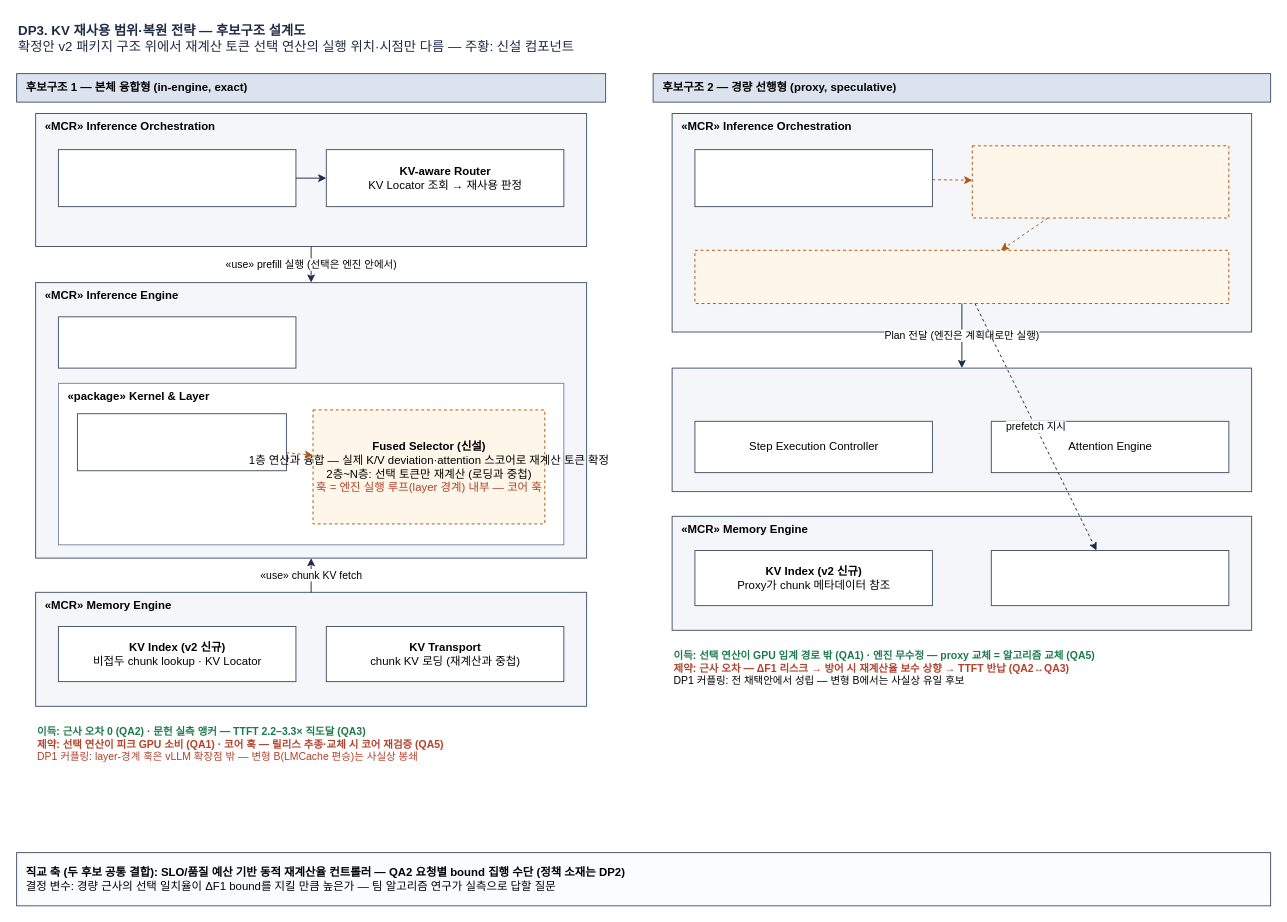
Image size: 1287x922. Some labels were removed from this diagram. Here are the shapes that lost their labels. From the top down, the box of each, then its label:
(57, 149, 296, 207): Retrieval Engine chunk 목록 산출
(694, 149, 932, 207): Retrieval Engine 반환 즉시 query+chunk 존재
(971, 145, 1229, 218): Proxy Selector (신설) 축소 모델/저차원 근사 attention CPU·보조 스트림 — 엔진 밖 독립 컴포넌트
(694, 249, 1229, 304): 재계산·로딩 Plan — prefill 시작 전 확정 재계산 토큰 집합 + chunk 로딩 순서 + prefetch 지시
(57, 316, 296, 368): Step Execution Controller continuous batching
(76, 413, 286, 471): Attention Engine 1층 전체 연산
(671, 367, 1252, 492): «MCR» Inference Engine — 무수정 (신설 컴포넌트 없음) prefill = 로딩 ∥ 재계산 ∥ prefetch 파이프라인 극대
(990, 550, 1229, 606): KV Transport Plan 순서로 선행 prefetch
